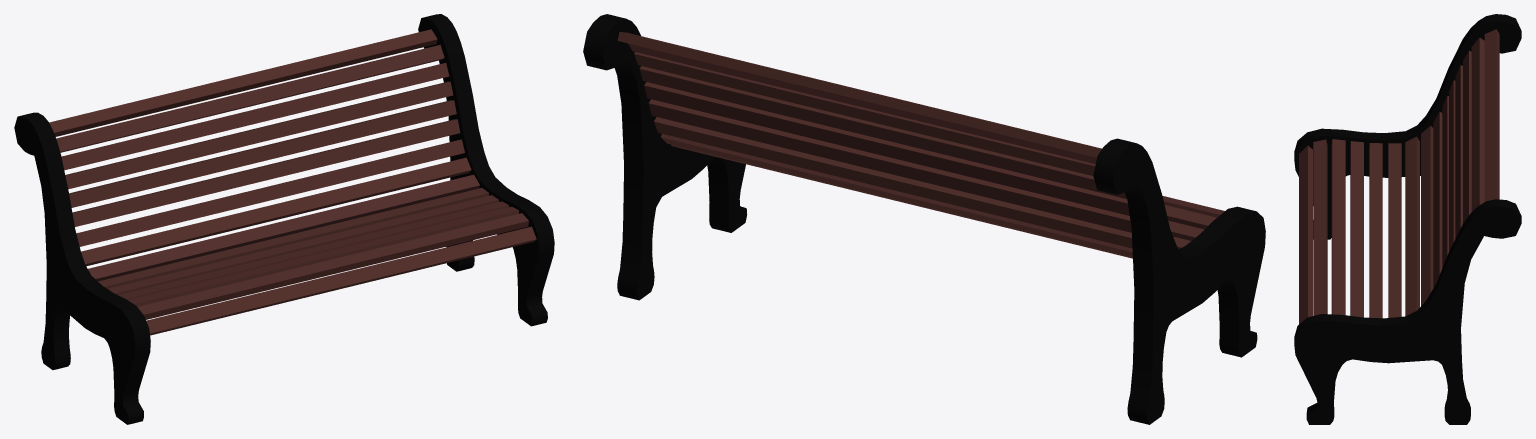
Rendered from Bench.fbx.
3 views of the same model, side by side, from view 1: azimuth 30°, elevation 25°; view 2: azimuth 150°, elevation 25°; view 3: azimuth 270°, elevation 25° (orthographic). The views are drawn at different scales.
Parts seen in each view (by area): view 1: Bench; view 2: Bench; view 3: Bench.
Boxes of the visible parts, x1=… form: Bench: x1=14, y1=14, x2=554, y2=424; Bench: x1=583, y1=14, x2=1265, y2=424; Bench: x1=1294, y1=14, x2=1521, y2=424.
Size of the model in its own units: 1.93 by 1.02 by 0.9628.
